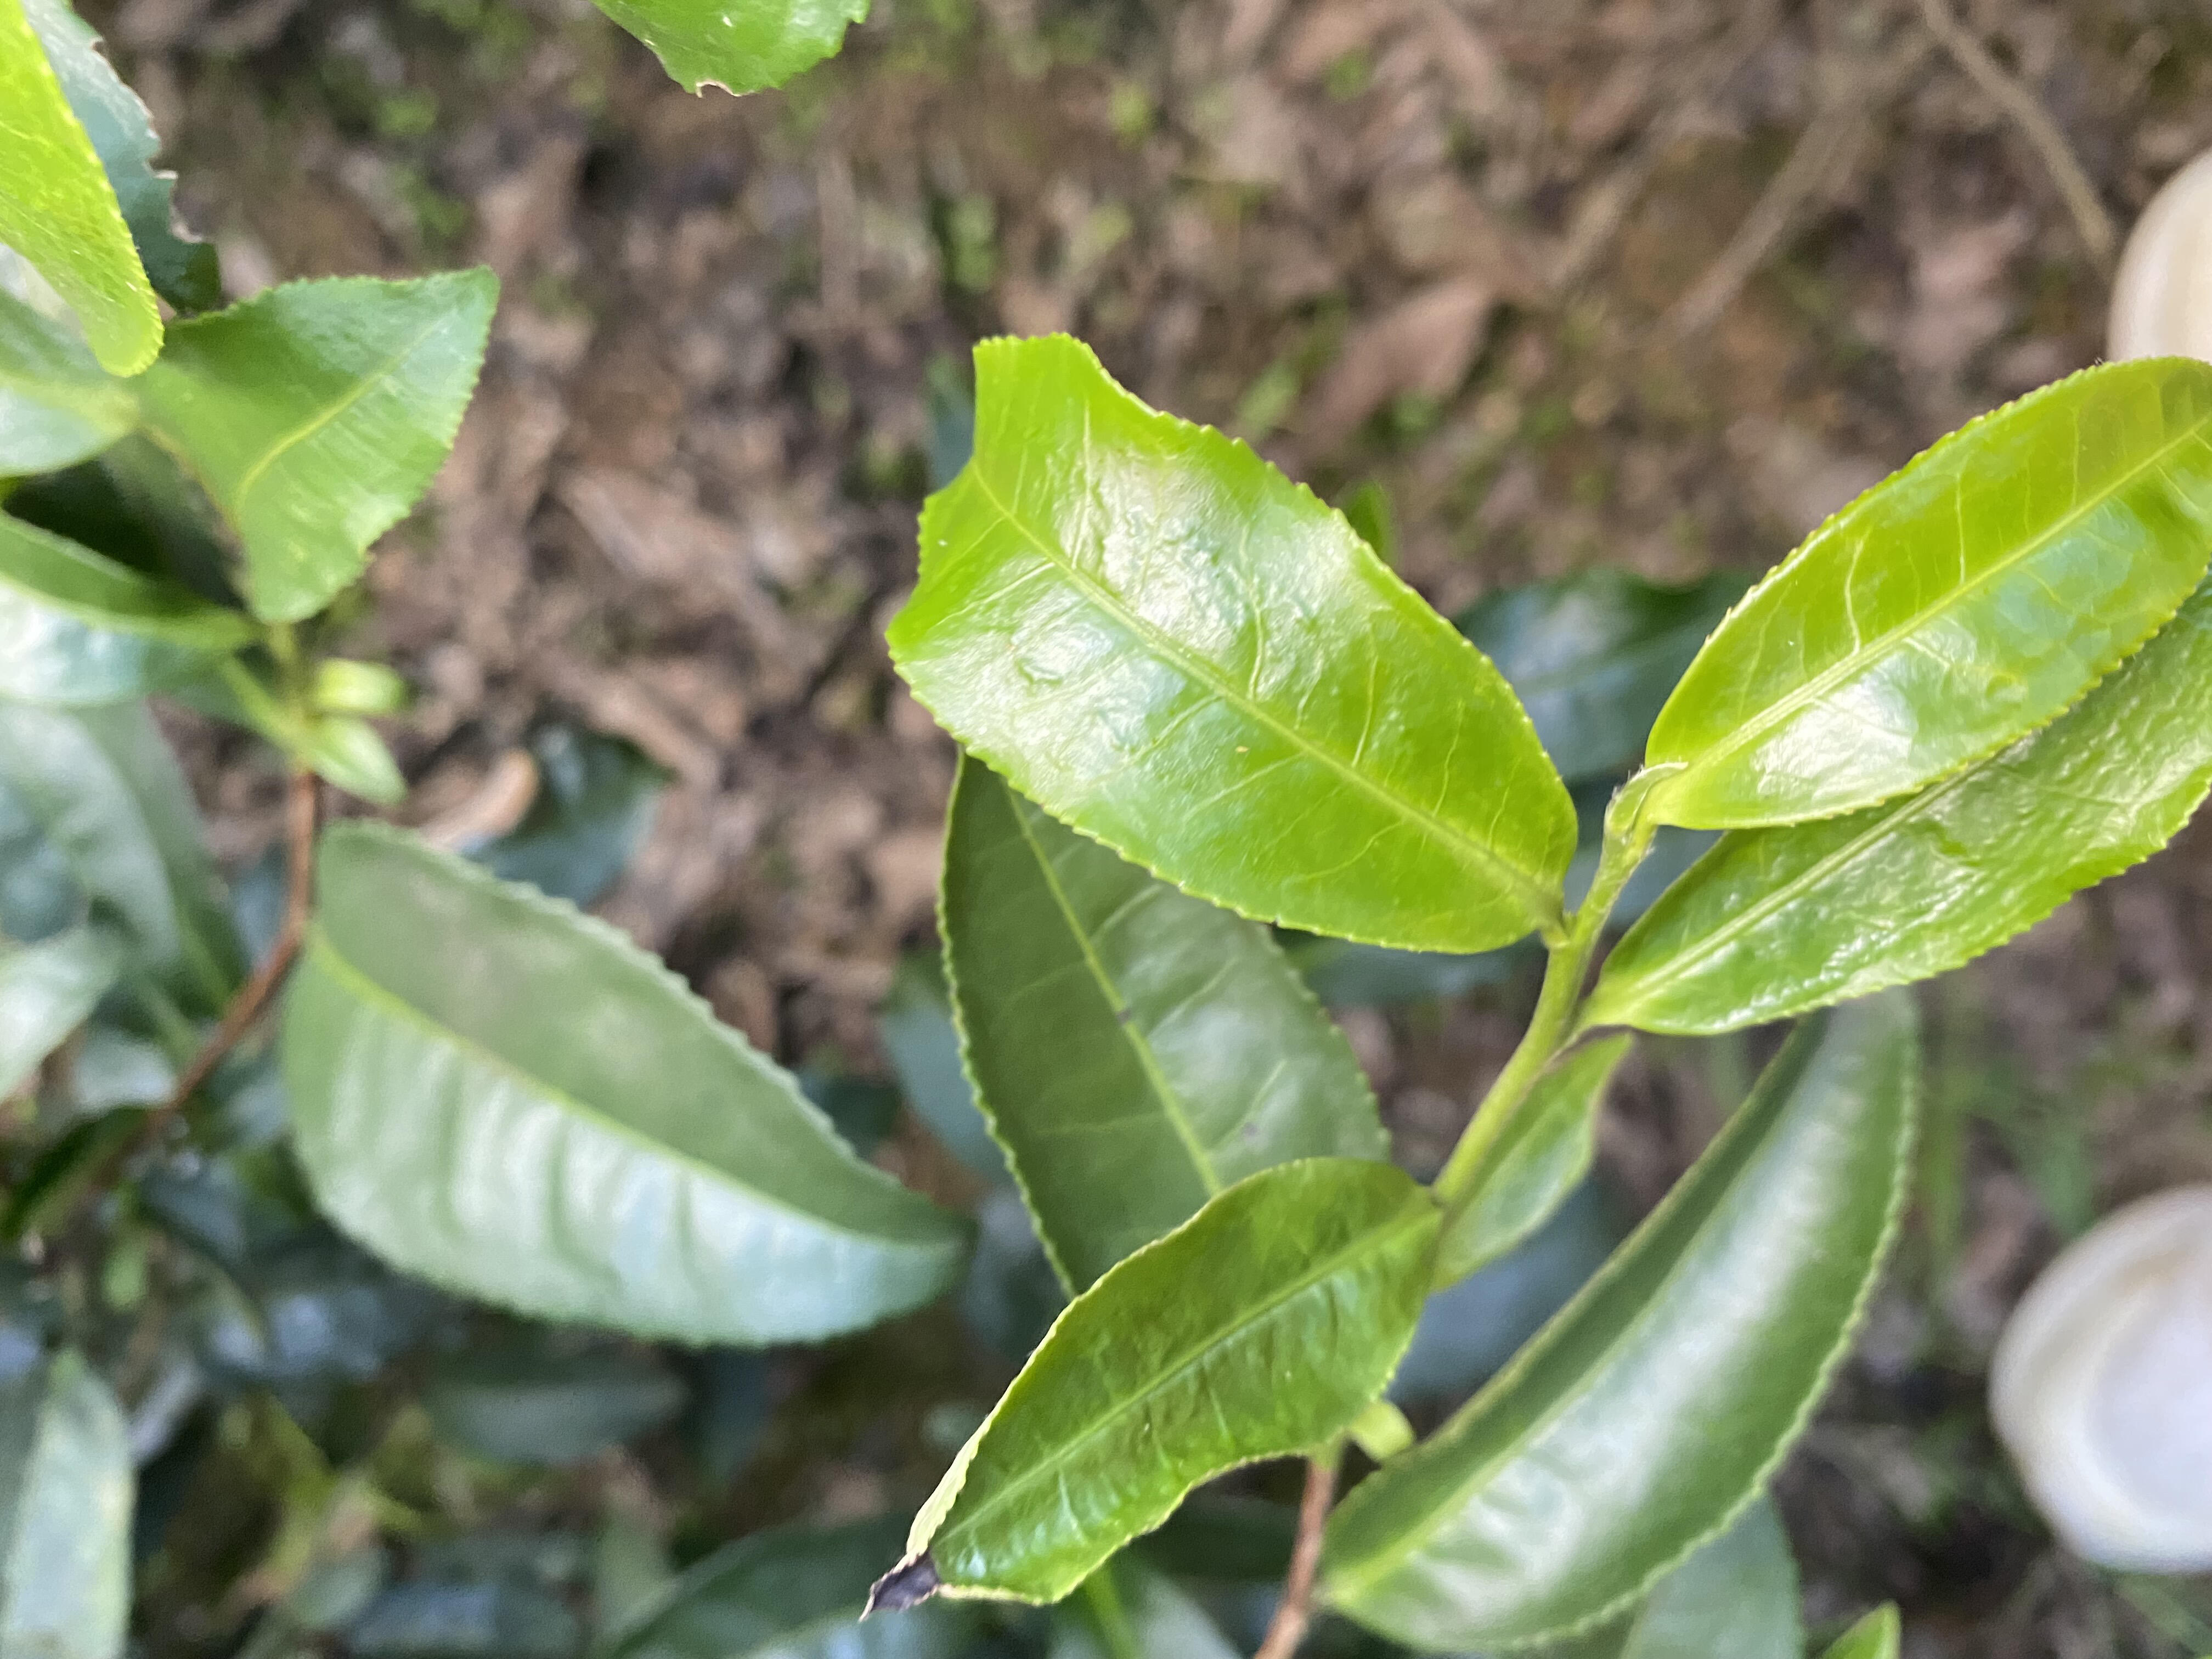healthy: (876, 331, 1581, 960), (1644, 356, 2210, 835)
tanju_high: (855, 1157, 1442, 1631)
